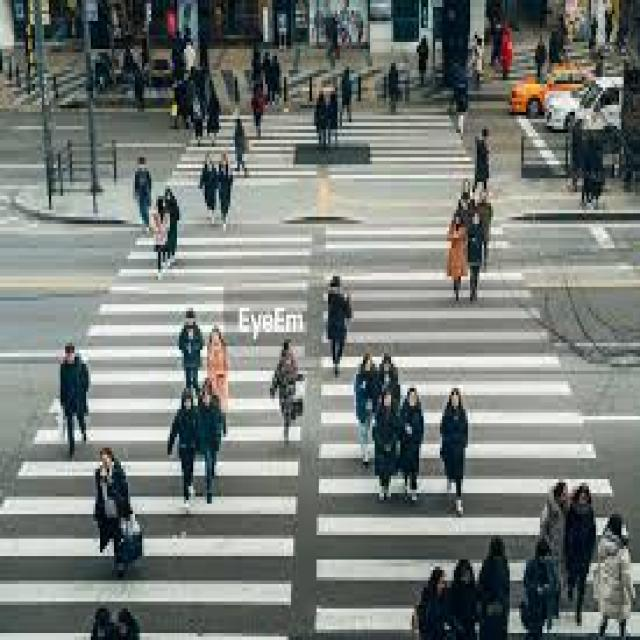Pedestrians: (93, 444, 142, 570), (54, 343, 96, 458), (600, 511, 638, 636), (163, 384, 198, 518), (263, 339, 300, 448), (477, 538, 516, 640), (442, 388, 473, 514), (198, 378, 226, 510), (407, 559, 449, 640), (542, 479, 570, 598), (572, 490, 596, 626), (400, 384, 426, 504), (372, 385, 398, 500), (449, 556, 480, 640), (326, 273, 351, 374), (354, 353, 377, 462), (177, 304, 202, 381), (205, 322, 226, 392)
